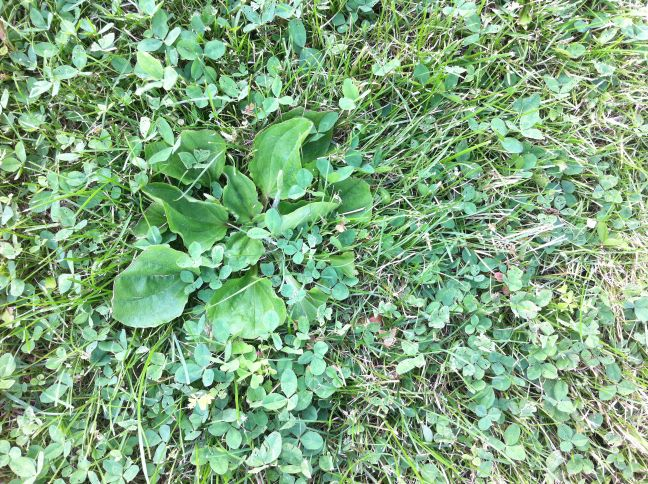weed1: (107, 110, 379, 348)
